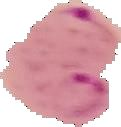parasitized: (52, 5, 109, 65), (59, 69, 107, 119)
